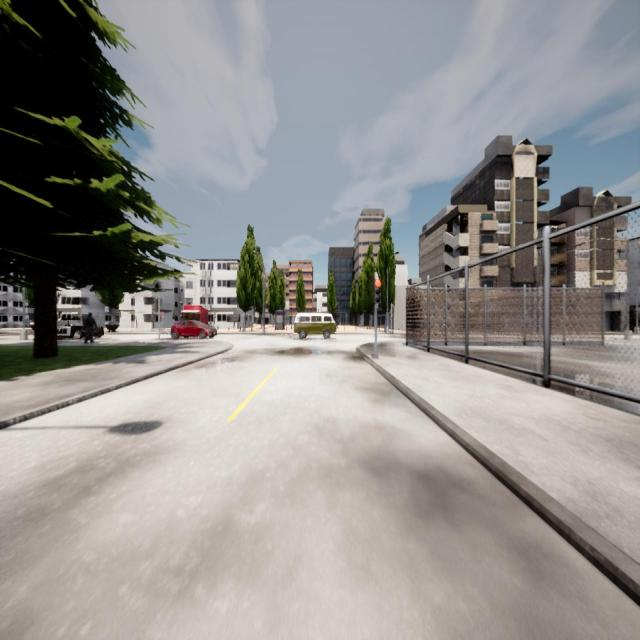Pedestrian: (84, 312, 95, 343)
Traffic_Signs: (160, 312, 164, 318)
Vehicle: (294, 313, 336, 338), (172, 321, 216, 338), (56, 313, 78, 340)
traffic_light: (374, 280, 382, 302)
